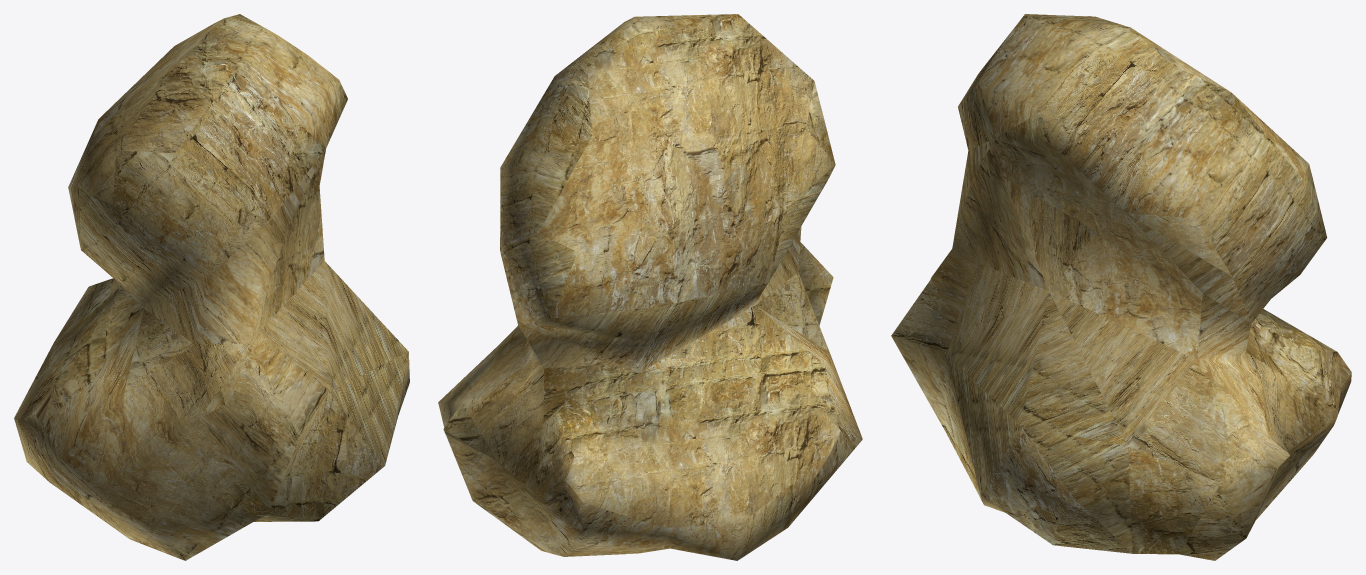
Rendered from Boulder13.dae.
3 views of the same model, side by side, from view 1: azimuth 30°, elevation 25°; view 2: azimuth 150°, elevation 25°; view 3: azimuth 270°, elevation 25° (orthographic). The views are drawn at different scales.
Parts seen in each view (by area): view 1: rock0; view 2: rock0; view 3: rock0.
Boxes of the visible parts, x1=… form: rock0: x1=14, y1=14, x2=409, y2=560; rock0: x1=438, y1=14, x2=862, y2=560; rock0: x1=891, y1=14, x2=1351, y2=560.
Size of the model in its own units: 1.12 by 1.25 by 1.51.
